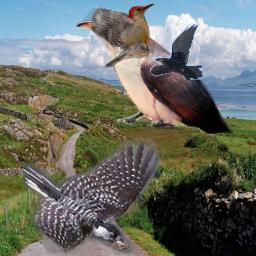Crow: (149, 23, 203, 80)
Cuckoo: (76, 13, 233, 135)
Woodpecker: (23, 137, 165, 256), (81, 2, 154, 67)
